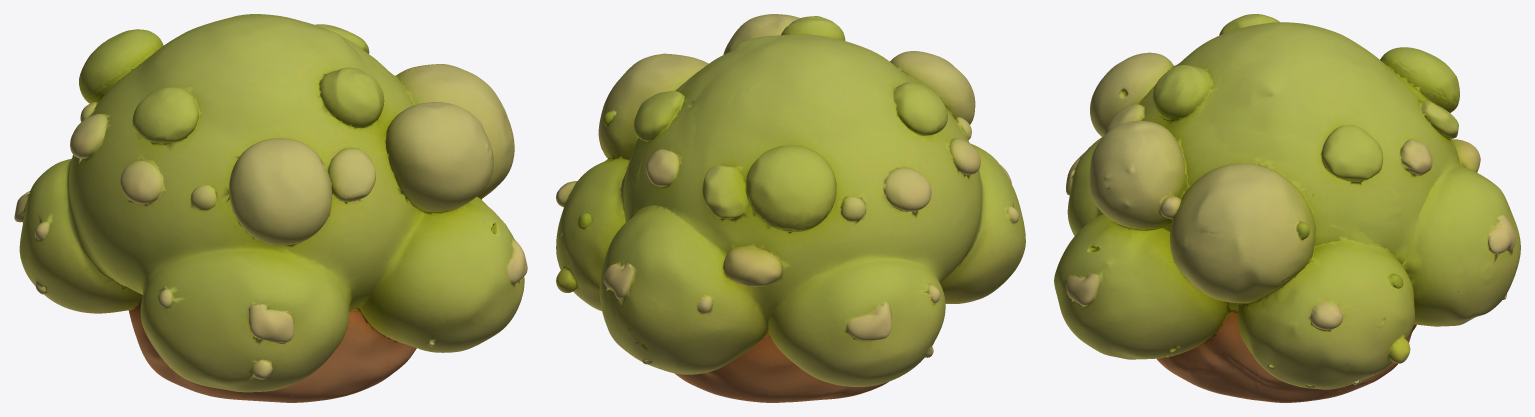
The model's file is env_nest_blob_01.glb.
The picture shows the model from 3 angles, left to right: view 1: azimuth 30°, elevation 25°; view 2: azimuth 150°, elevation 25°; view 3: azimuth 270°, elevation 25°; orthographic projection. The views are drawn at different scales.
Visible parts, largest first — view 1: tripo_node_efed6b3f-259b-4b11-8b85-bc7ee8d42a39; view 2: tripo_node_efed6b3f-259b-4b11-8b85-bc7ee8d42a39; view 3: tripo_node_efed6b3f-259b-4b11-8b85-bc7ee8d42a39.
Boxes of the visible parts, left/top/right/bottom form: tripo_node_efed6b3f-259b-4b11-8b85-bc7ee8d42a39: left=14, top=14, right=527, bottom=402; tripo_node_efed6b3f-259b-4b11-8b85-bc7ee8d42a39: left=556, top=14, right=1025, bottom=402; tripo_node_efed6b3f-259b-4b11-8b85-bc7ee8d42a39: left=1054, top=14, right=1520, bottom=402.
Bounding box in the file's own units: 1.06 × 0.8 × 1.09.
Materials: 1 (1 with a texture image).
